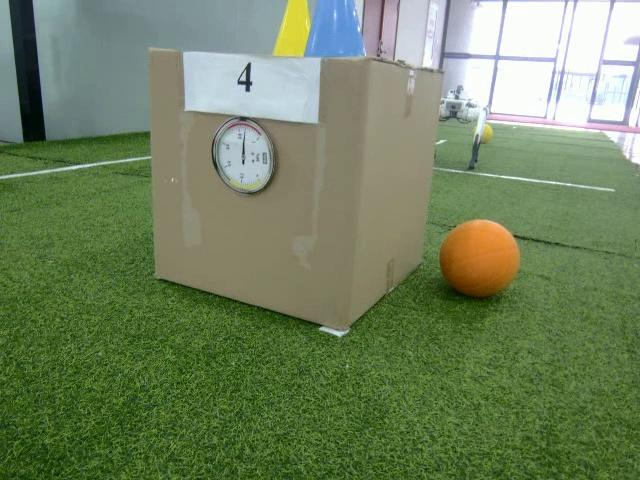4: (239, 61, 255, 93)
Dashboard: (208, 118, 281, 198)
blue_barrel: (316, 0, 363, 56)
orange_barrel: (442, 220, 519, 298)
ssi: (260, 152, 269, 167)
yellow_barrel: (275, 0, 312, 56)
